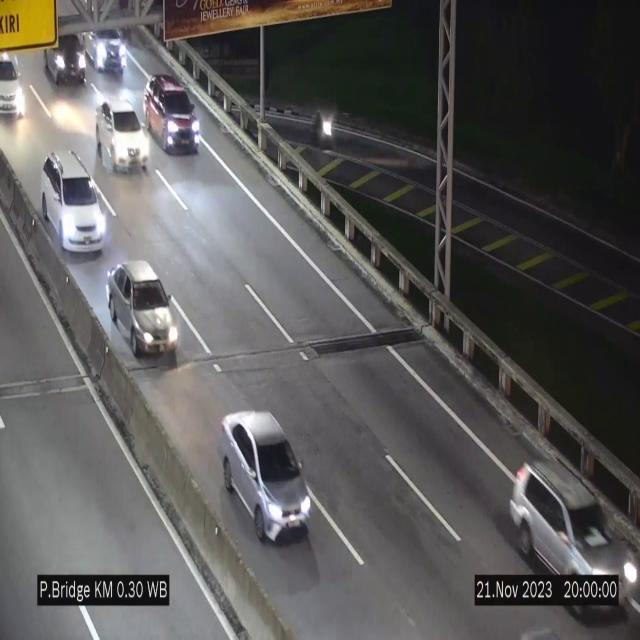Car: (509, 460, 640, 606), (218, 411, 312, 540), (108, 260, 178, 357), (42, 150, 106, 254), (93, 93, 153, 177), (144, 74, 202, 152), (75, 19, 134, 77), (0, 46, 36, 118), (42, 30, 88, 84)
Motorcycle: (308, 102, 338, 158)
